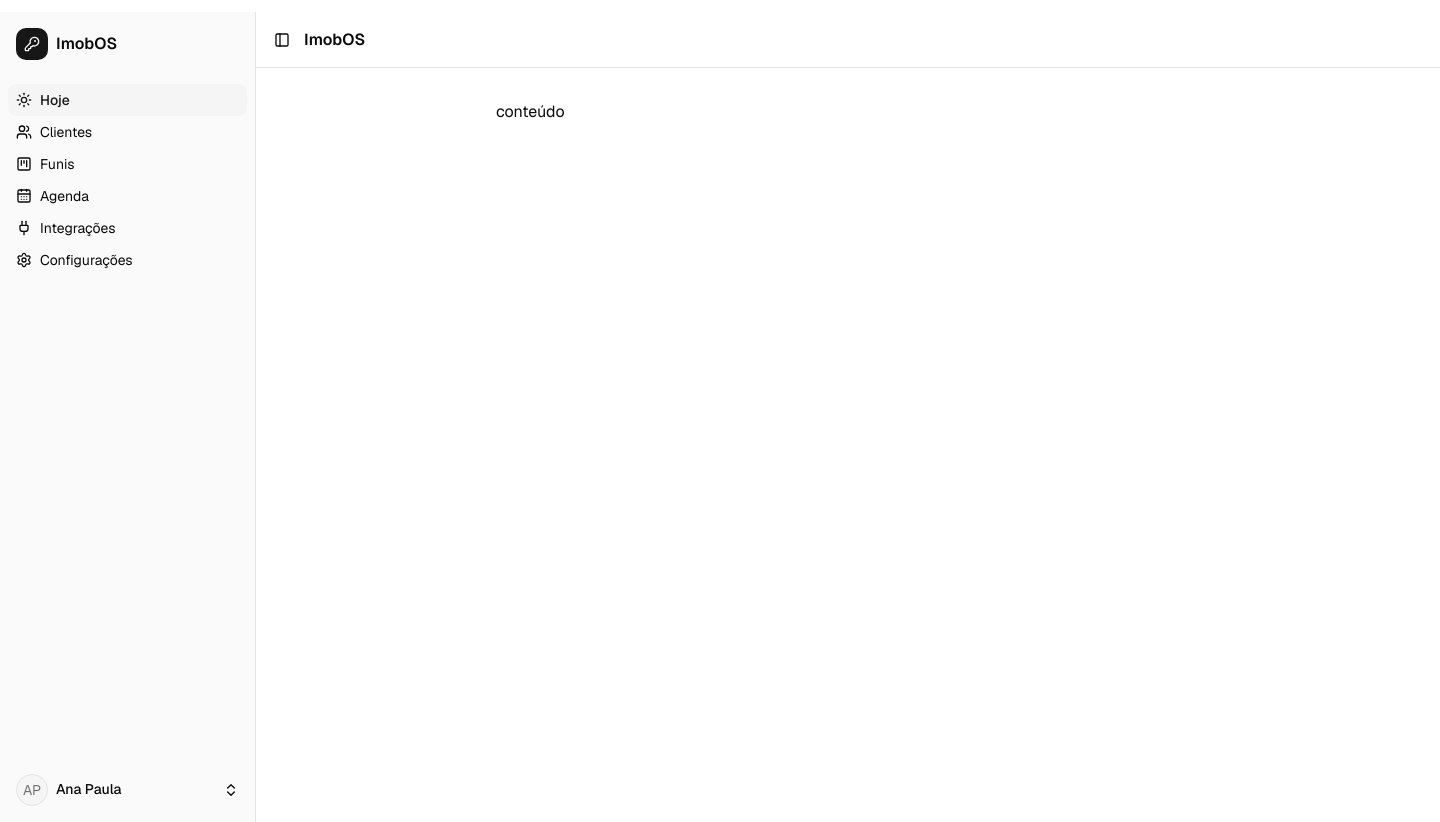
Test: protected screens › the layout shows the navigation, the user and a way out
expect the link "Hoje" is shown: met, box [8,84,247,116]
expect the link "Clientes" is shown: met, box [16,123,92,141]
Click the button "AP Ana Paula".
click(128, 790)  # box [8,766,247,814]
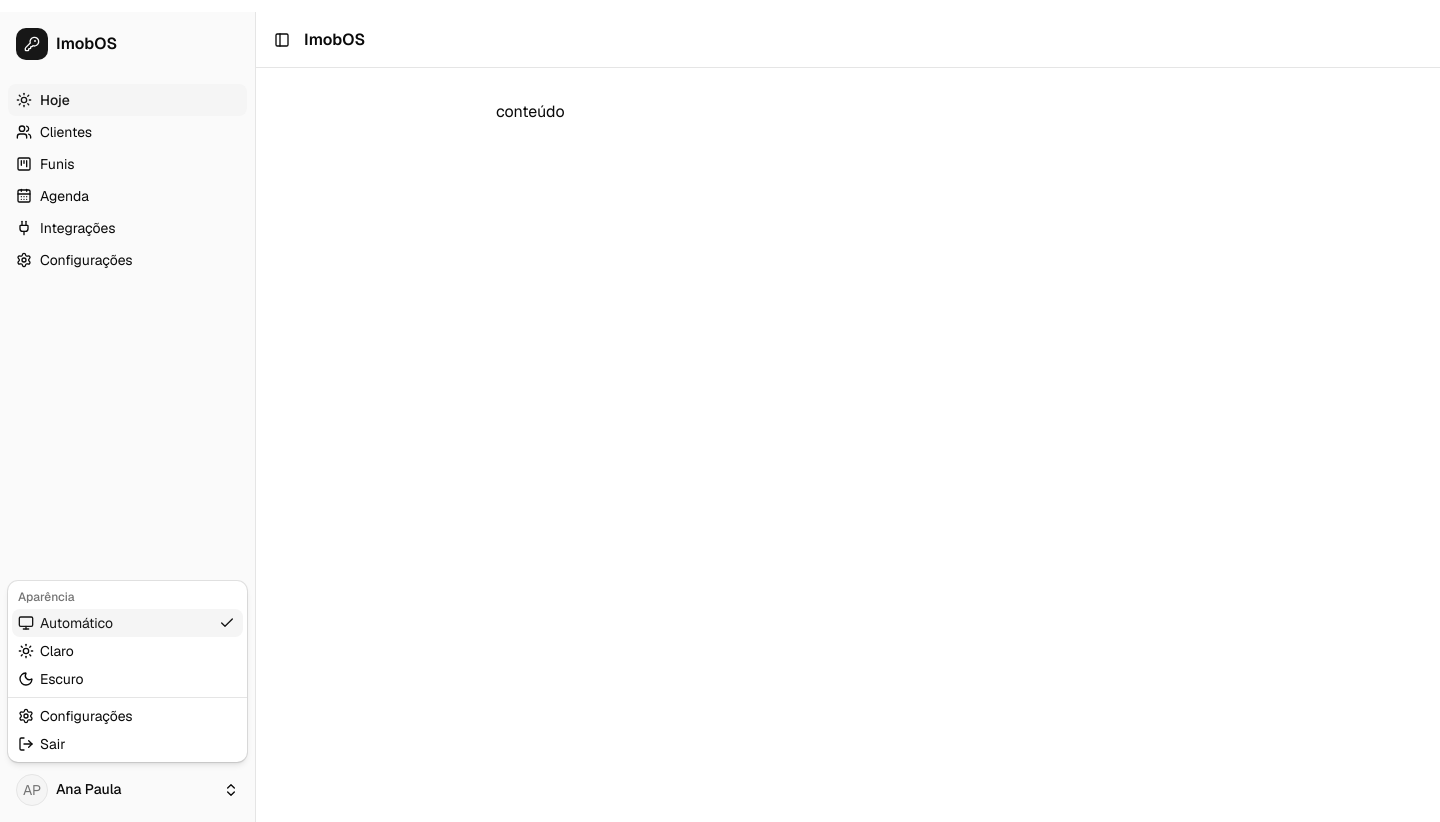
expect the menu item "Sair" is shown: met, box [18,735,66,753]
expect the menu item "Automático" is shown: met, box [12,609,243,637]
